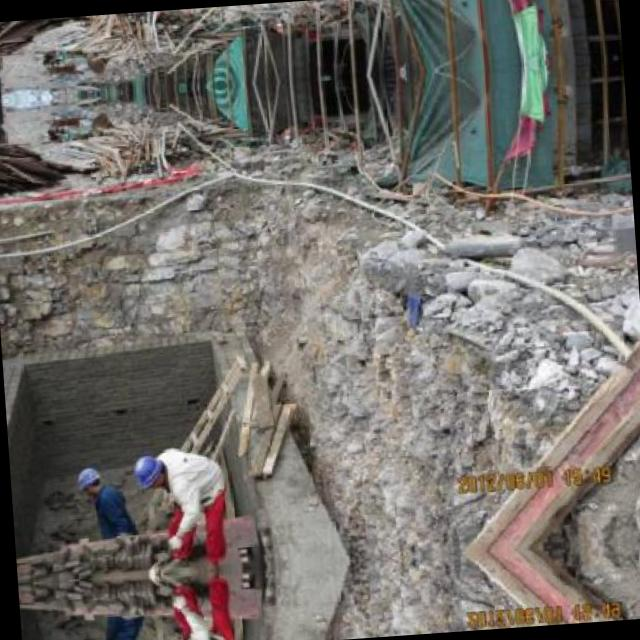helmet: (128, 452, 166, 493), (74, 461, 105, 495)
